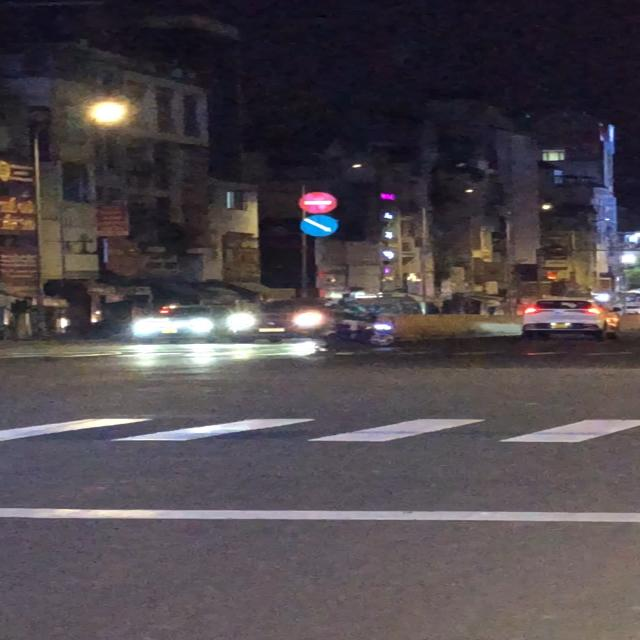Bien bao cam di nguoc chieu: (298, 190, 338, 214)
Bien bao huong phai di vong chuong ngai vat: (298, 214, 339, 238)
